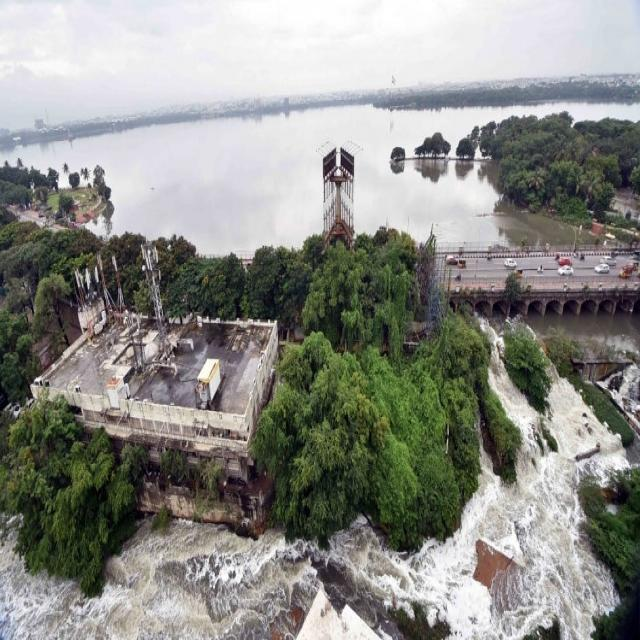flood: (0, 353, 627, 640), (0, 102, 640, 256)
house: (37, 316, 286, 434)
